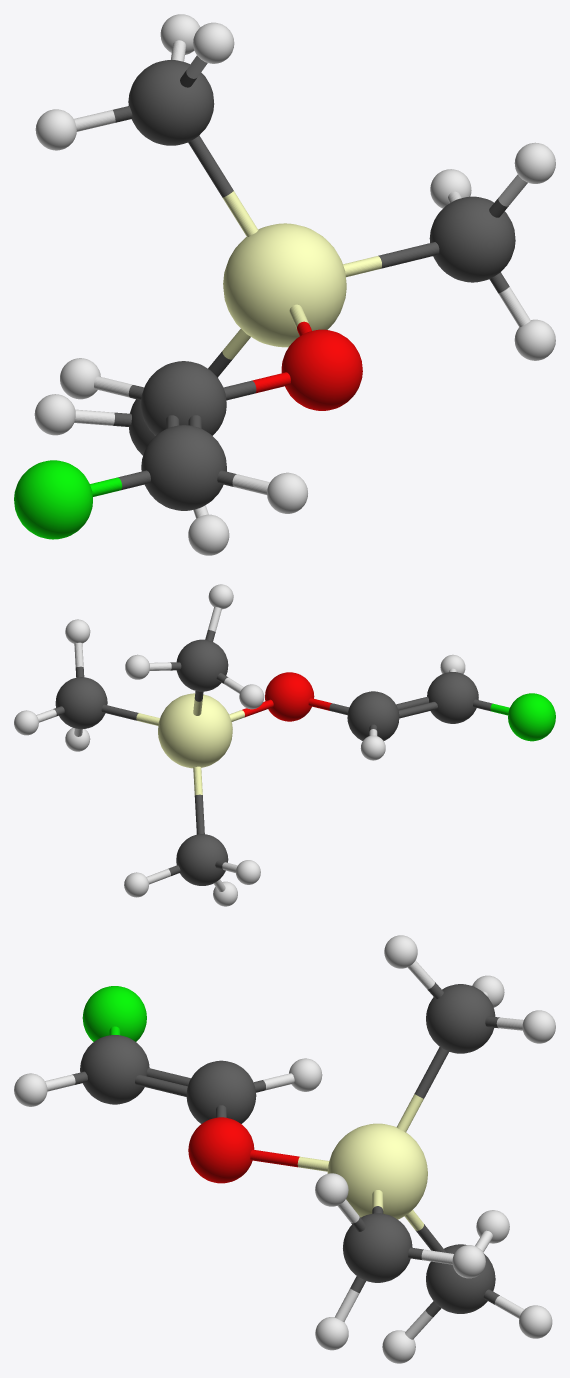
The model's file is E-2-fluorovinyloxytrimethylsilane.fbx.
3 views of the same model, one above another, from view 1: azimuth 30°, elevation 25°; view 2: azimuth 150°, elevation 25°; view 3: azimuth 270°, elevation 25° (orthographic). The views are drawn at different scales.
Visible parts, largest first — view 1: Si06, C01, C16, C12, O05, F07, C03, Si06-C12, H13, H11, H09, H19 (+17 smaller); view 2: Si06, C16, C12, C08, C01, C03, O05, F07, Si06-C08, H04, Si06-C16, H10 (+8 smaller); view 3: Si06, C12, C16, C01, O05, C03, F07, C08, Si06-C12, O05-Si06, H10, H19 (+13 smaller).
Part boxes in pixels (x1,y1,x2,y2): Si06: (223, 223, 346, 347); C01: (141, 425, 226, 510); C16: (429, 196, 515, 282); C12: (128, 60, 214, 145); O05: (281, 329, 362, 410); F07: (14, 460, 92, 539); C03: (141, 361, 226, 435); Si06-C12: (188, 135, 258, 237); H13: (193, 22, 234, 63); H11: (188, 514, 229, 555); H09: (34, 394, 75, 435); H19: (514, 142, 555, 183); Si06: (158, 693, 232, 768); C16: (55, 677, 107, 729); C12: (176, 639, 228, 691); C08: (176, 834, 228, 885); C01: (427, 672, 478, 723); C03: (347, 691, 399, 740); O05: (265, 672, 314, 721); F07: (508, 693, 555, 741); Si06-C08: (193, 766, 204, 834); H04: (360, 735, 385, 760); Si06-C16: (101, 704, 159, 725); H10: (124, 872, 148, 897); Si06: (327, 1123, 427, 1219); C12: (426, 984, 495, 1053); C16: (343, 1213, 412, 1282); C01: (80, 1035, 149, 1104); O05: (188, 1117, 254, 1183); C03: (186, 1060, 256, 1123); F07: (82, 986, 146, 1041); C08: (426, 1244, 495, 1313); Si06-C12: (396, 1047, 448, 1132); O05-Si06: (250, 1149, 329, 1171); H10: (519, 1305, 552, 1338); H19: (315, 1173, 348, 1206).
Size of the model in its own units: 690 by 521 by 598.
